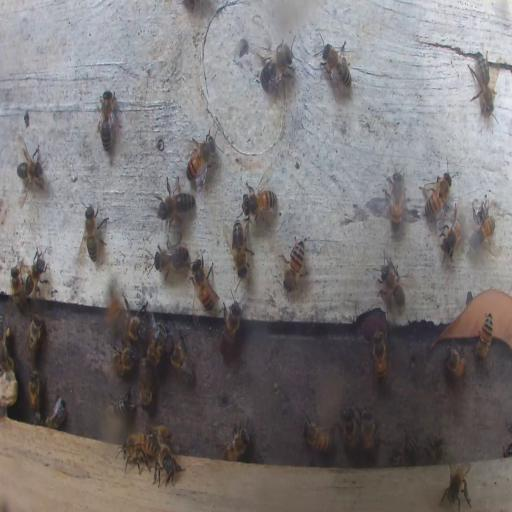bee: (316, 36, 353, 100), (258, 41, 296, 96), (422, 162, 454, 222), (440, 461, 474, 511), (81, 200, 109, 260), (469, 52, 496, 114), (157, 177, 194, 222), (378, 255, 406, 314), (95, 85, 120, 151), (185, 132, 215, 186), (191, 254, 217, 312), (168, 330, 195, 385), (220, 294, 244, 354), (16, 146, 46, 194), (281, 236, 306, 293), (229, 218, 253, 277), (242, 183, 278, 222), (155, 238, 191, 276), (386, 166, 406, 232), (440, 206, 464, 260), (119, 433, 156, 465), (22, 250, 46, 299), (470, 211, 496, 255), (221, 422, 250, 460), (154, 447, 180, 488), (303, 420, 334, 452), (392, 431, 418, 466), (340, 406, 358, 455), (148, 319, 166, 368), (26, 312, 42, 366), (372, 328, 387, 385), (124, 304, 145, 344), (443, 344, 467, 379), (110, 386, 137, 417), (476, 312, 493, 361), (110, 344, 136, 376), (10, 262, 26, 310), (360, 406, 375, 456), (45, 395, 66, 430), (138, 358, 152, 410), (28, 369, 41, 417), (1, 318, 12, 371), (426, 437, 445, 463), (150, 425, 172, 446)
